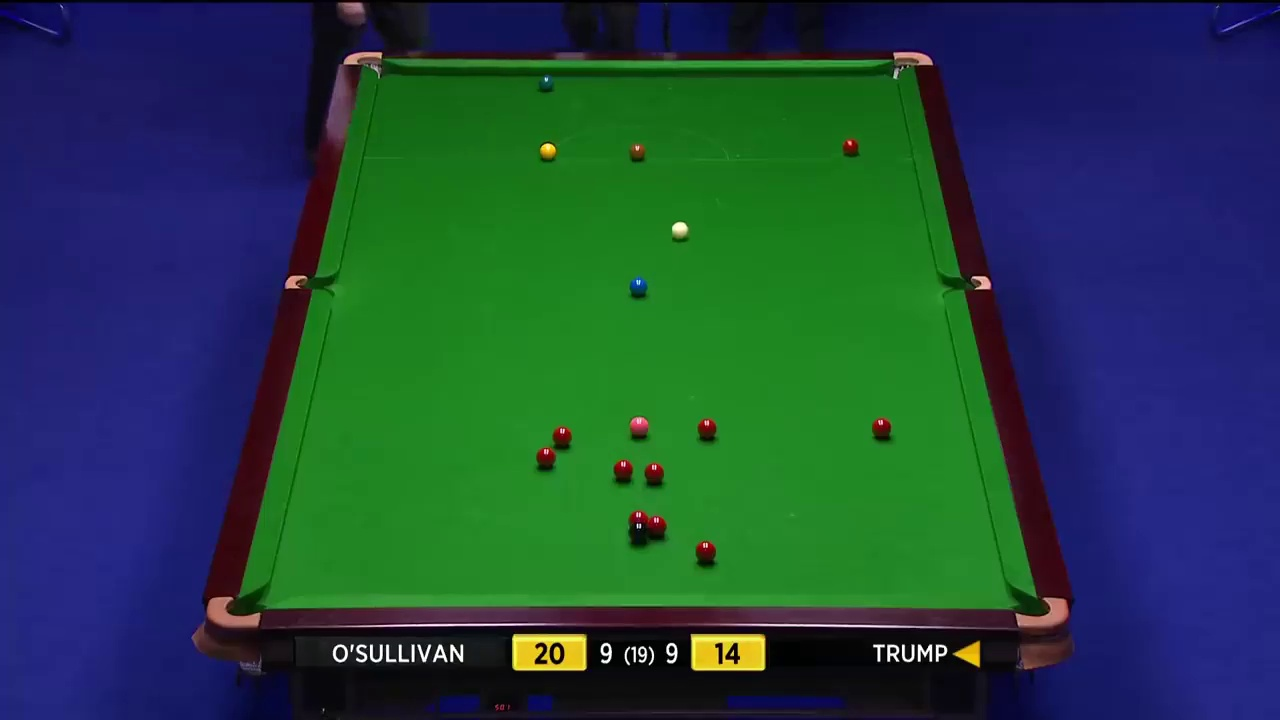ball: (643, 462, 665, 486), (694, 540, 716, 564), (626, 521, 649, 543), (873, 415, 894, 439), (630, 416, 651, 439), (697, 417, 718, 439), (613, 458, 634, 480), (668, 221, 691, 241), (841, 138, 862, 158), (536, 444, 554, 467), (628, 276, 648, 296), (535, 74, 557, 92), (539, 143, 560, 161), (628, 141, 646, 158)
